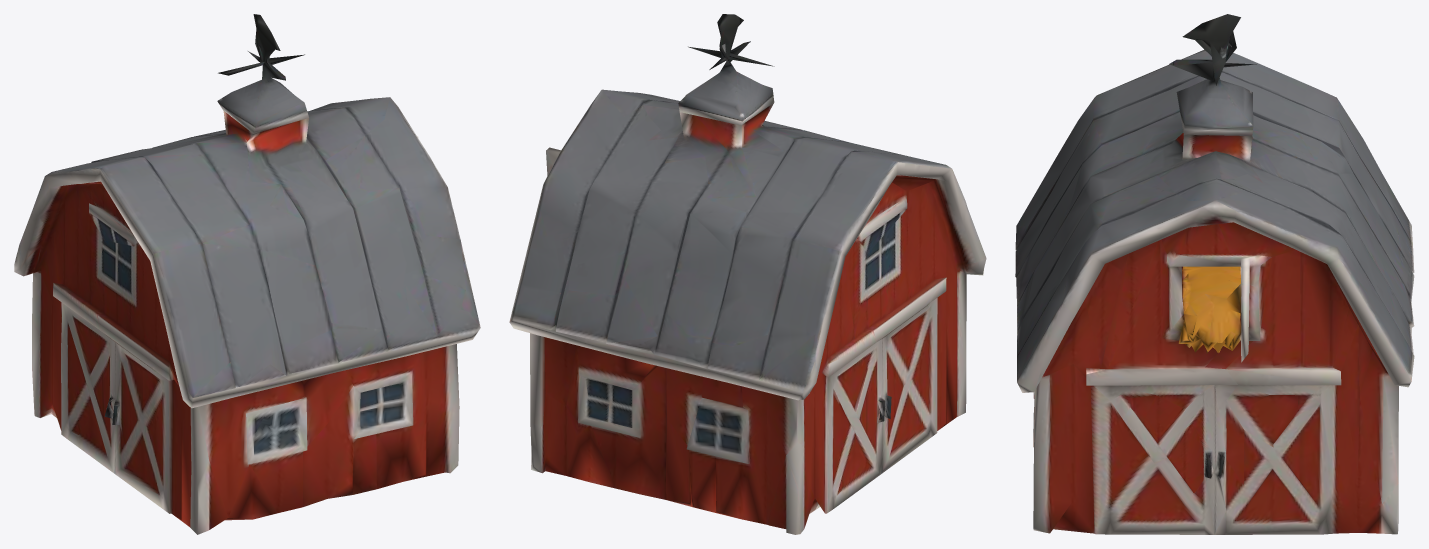
Rendered from barn.glb.
3 renders of one model, left to right at view 1: azimuth 30°, elevation 25°; view 2: azimuth 150°, elevation 25°; view 3: azimuth 270°, elevation 25°, orthographic. The views are drawn at different scales.
Visible parts, largest first — view 1: tripo_node_d915e016-ca6d-442b-b879-97233fa91e21; view 2: tripo_node_d915e016-ca6d-442b-b879-97233fa91e21; view 3: tripo_node_d915e016-ca6d-442b-b879-97233fa91e21.
Part boxes in pixels (x1,y1,x2,y2): tripo_node_d915e016-ca6d-442b-b879-97233fa91e21: (14, 14, 480, 534); tripo_node_d915e016-ca6d-442b-b879-97233fa91e21: (509, 14, 986, 534); tripo_node_d915e016-ca6d-442b-b879-97233fa91e21: (1015, 14, 1414, 534).
Size of the model in its own units: 0.8258 by 1 by 0.7831.
Materials: 1 (1 with a texture image).
